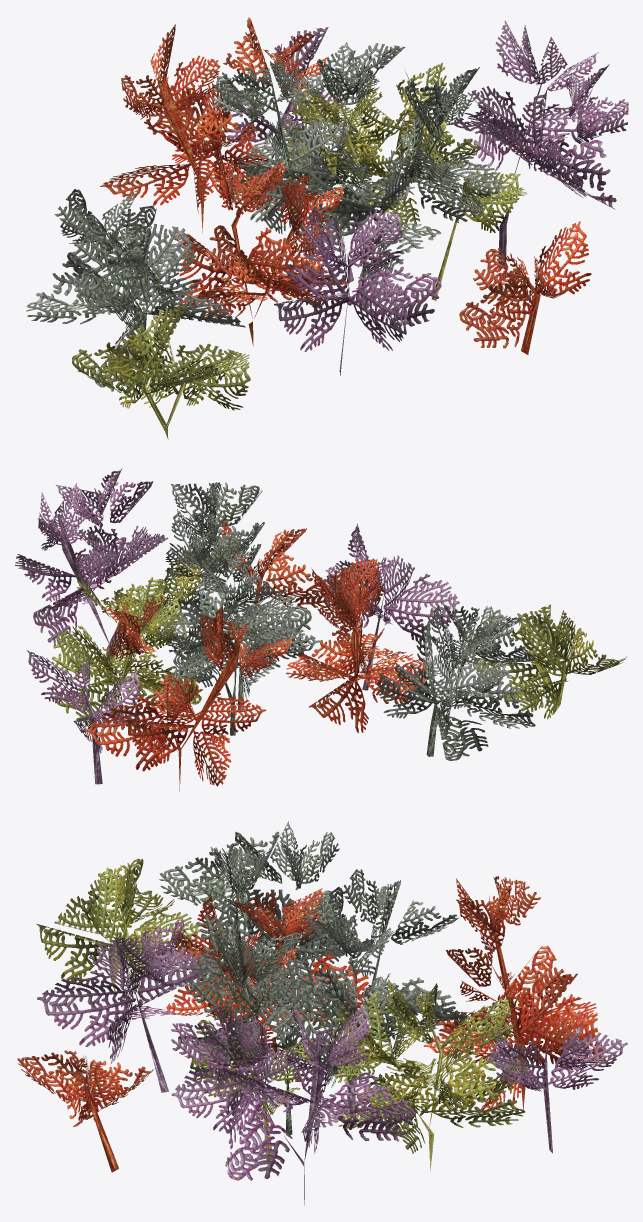
Rendered from fanlow_lo.glb.
3 views of the same model, one above another, from view 1: azimuth 30°, elevation 25°; view 2: azimuth 150°, elevation 25°; view 3: azimuth 270°, elevation 25° (orthographic). The views are drawn at different scales.
Parts seen in each view (by area): view 1: LOD0_FanCoral_Cluster_Low_Mat_0, LOD0_FanCoralSkin_Orange_Mat_0, LOD0_FanCoralSkin_White_Mat_0, LOD0_FanCoralSkin_Yellow_Mat_0, LOD0_FanCoralSkin_Violet_Mat_0; view 2: LOD0_FanCoral_Cluster_Low_Mat_0, LOD0_FanCoralSkin_Violet_Mat_0, LOD0_FanCoralSkin_Orange_Mat_0, LOD0_FanCoralSkin_White_Mat_0, LOD0_FanCoralSkin_Yellow_Mat_0; view 3: LOD0_FanCoral_Cluster_Low_Mat_0, LOD0_FanCoralSkin_Violet_Mat_0, LOD0_FanCoralSkin_Orange_Mat_0, LOD0_FanCoralSkin_White_Mat_0, LOD0_FanCoralSkin_Yellow_Mat_0.
Boxes of the visible parts, x1,y1,x2,y2 form: LOD0_FanCoral_Cluster_Low_Mat_0: (26, 17, 628, 410); LOD0_FanCoralSkin_Orange_Mat_0: (161, 72, 540, 354); LOD0_FanCoralSkin_White_Mat_0: (128, 71, 443, 360); LOD0_FanCoralSkin_Yellow_Mat_0: (142, 105, 471, 439); LOD0_FanCoralSkin_Violet_Mat_0: (270, 65, 547, 375); LOD0_FanCoral_Cluster_Low_Mat_0: (15, 469, 627, 786); LOD0_FanCoralSkin_Violet_Mat_0: (61, 520, 388, 784); LOD0_FanCoralSkin_Orange_Mat_0: (173, 557, 361, 791); LOD0_FanCoralSkin_White_Mat_0: (210, 517, 474, 756); LOD0_FanCoralSkin_Yellow_Mat_0: (110, 569, 566, 734); LOD0_FanCoral_Cluster_Low_Mat_0: (17, 821, 627, 1180); LOD0_FanCoralSkin_Violet_Mat_0: (128, 972, 552, 1205); LOD0_FanCoralSkin_Orange_Mat_0: (89, 896, 526, 1172); LOD0_FanCoralSkin_White_Mat_0: (236, 859, 391, 1135); LOD0_FanCoralSkin_Yellow_Mat_0: (108, 900, 443, 1171).
Size of the model in its own units: 0.1752 by 0.0652 by 0.1474.
5 materials, 5 textured.
